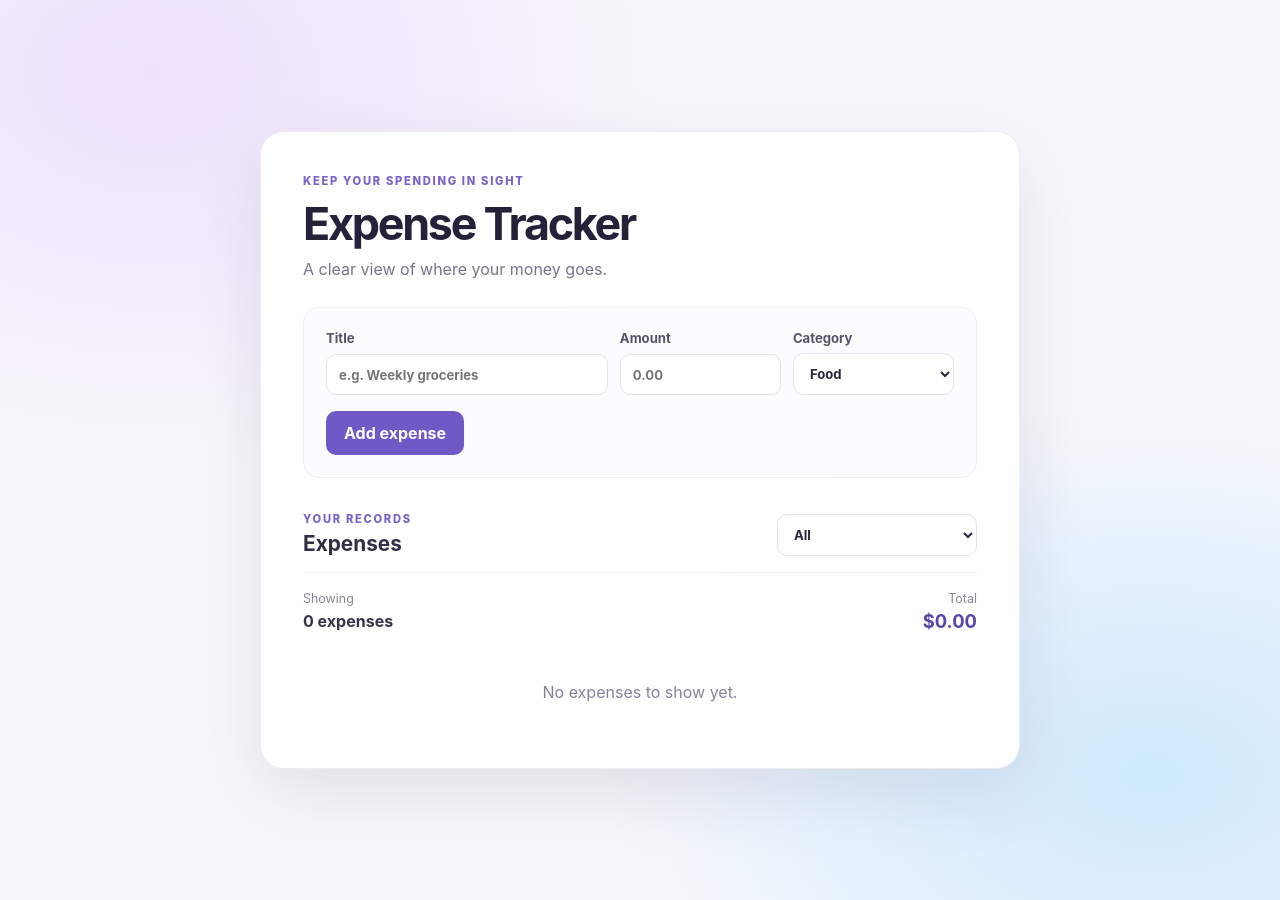
Test: rejects invalid amount 0
This screenshot has width=1280, height=900.
In the field labelled "Title": (467,374) [326,354,608,395], type "Invalid expense"
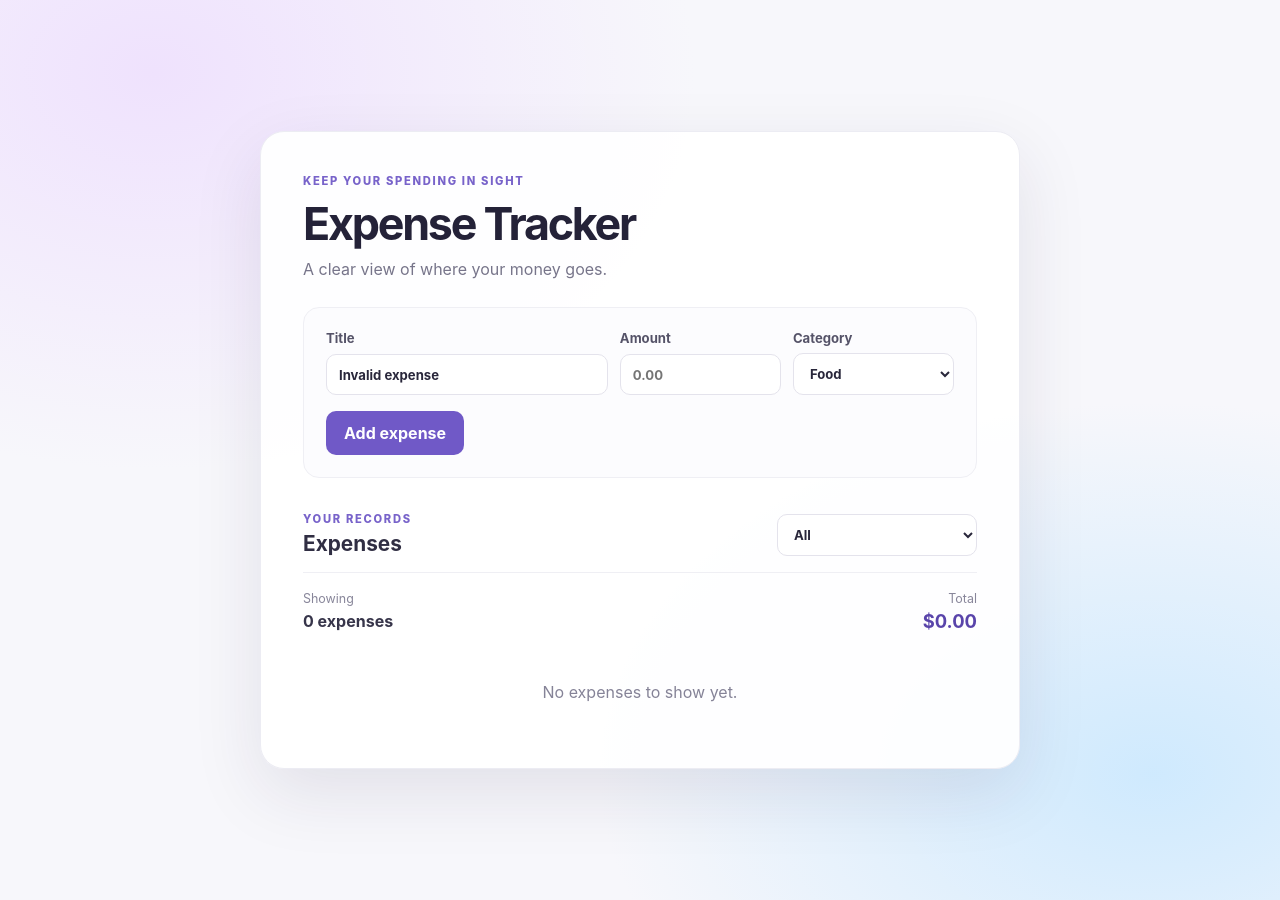
In the field labelled "Amount": (700,374) [620,354,781,395], type "0"
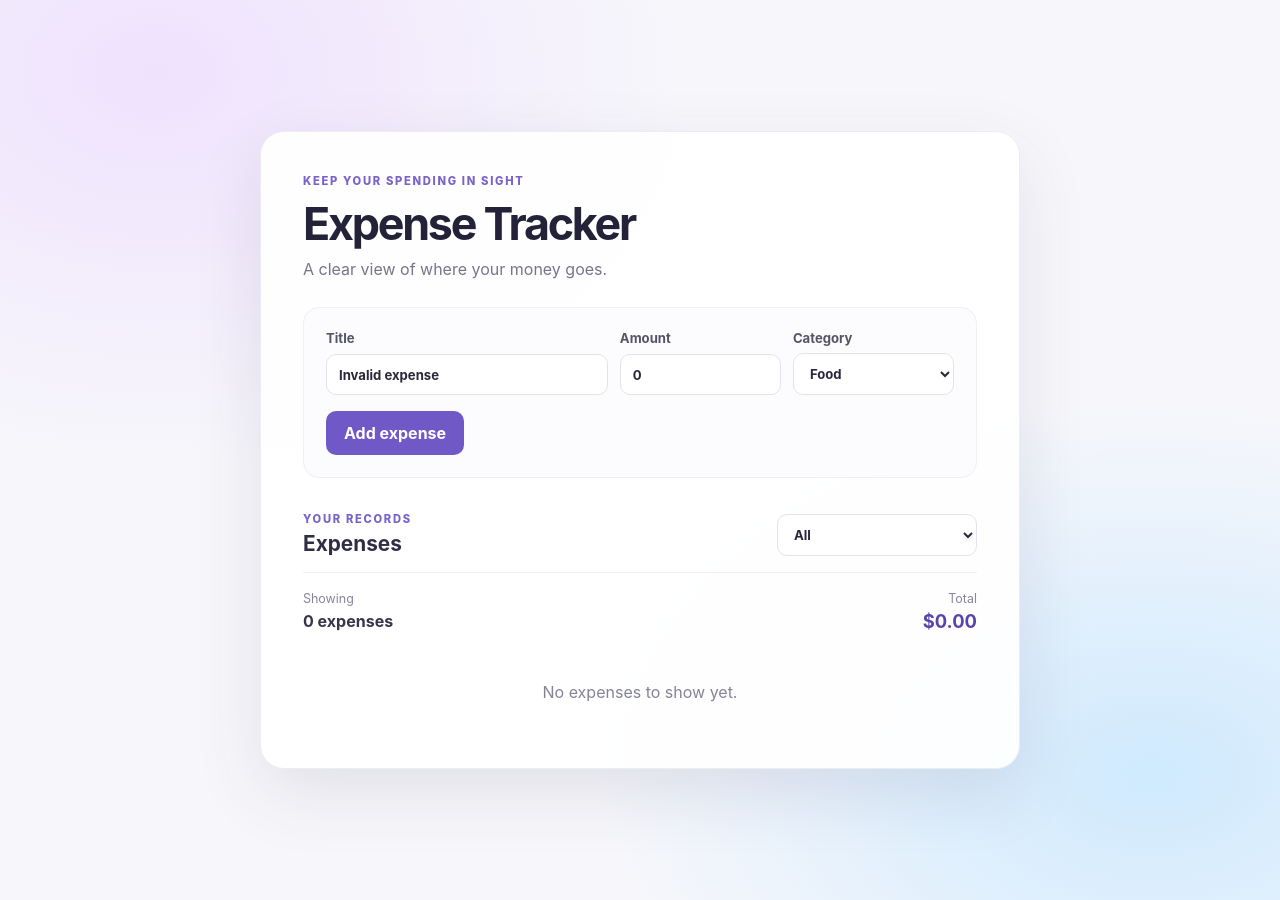
Select "Food" in the dropdown labelled "Category": (873,374) [793,353,954,395]
Click the button "Add expense": (395,433) [326,411,464,455]
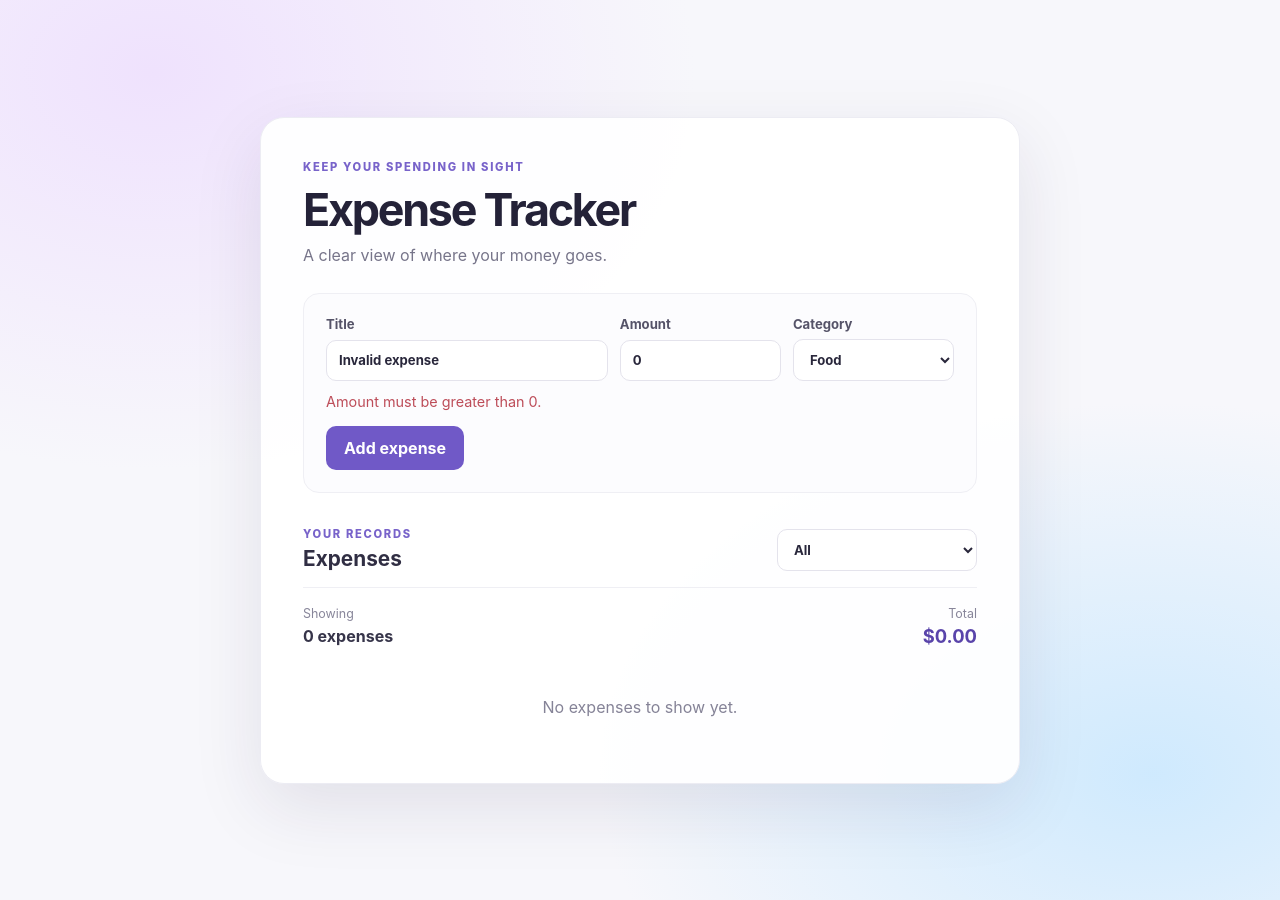
Check: the message "Amount must be greater than 0." is shown, box [326,392,541,410]
